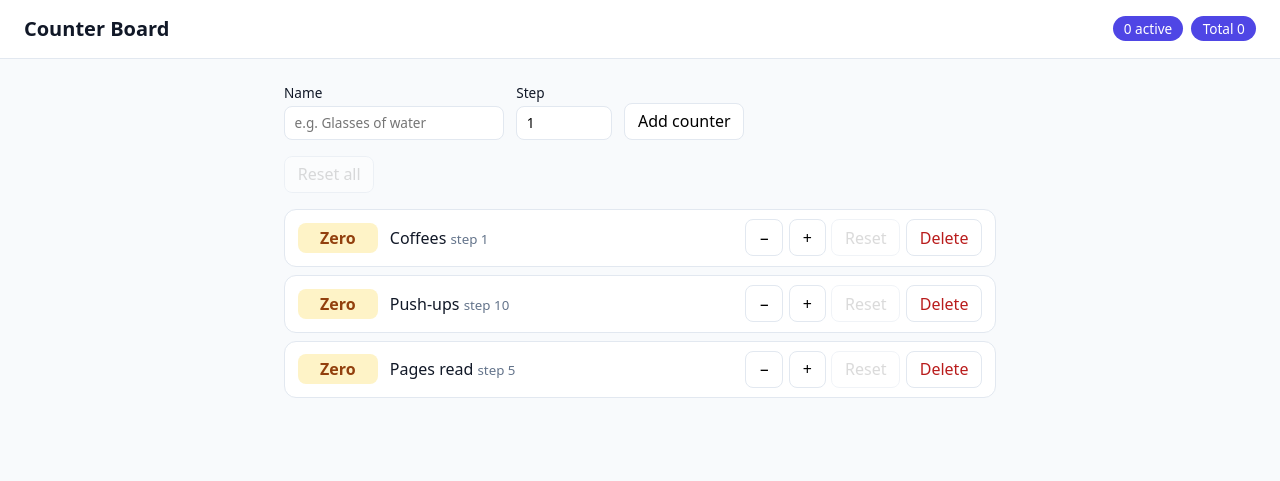
Counter Board › adds a counter with a custom step and rejects bad input
The image size is (1280, 481).
Click the button "Add counter" at (684, 121), box [624, 103, 744, 140]
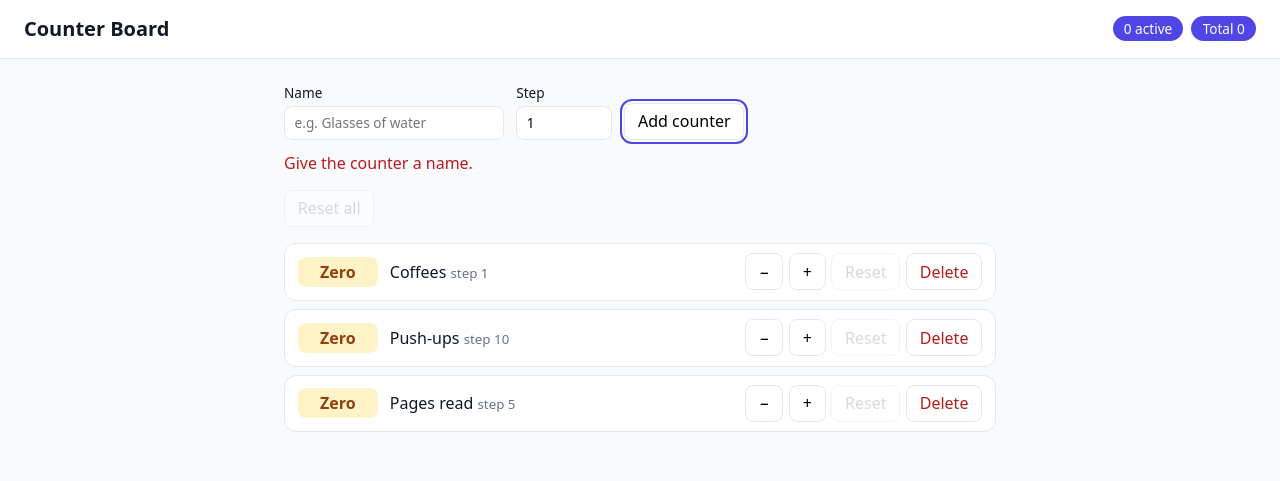
Now the message reads "Give the counter a name.", box [284, 152, 473, 174]
Type "Water" into the field labelled "Name" at (394, 123), box [284, 106, 504, 140]
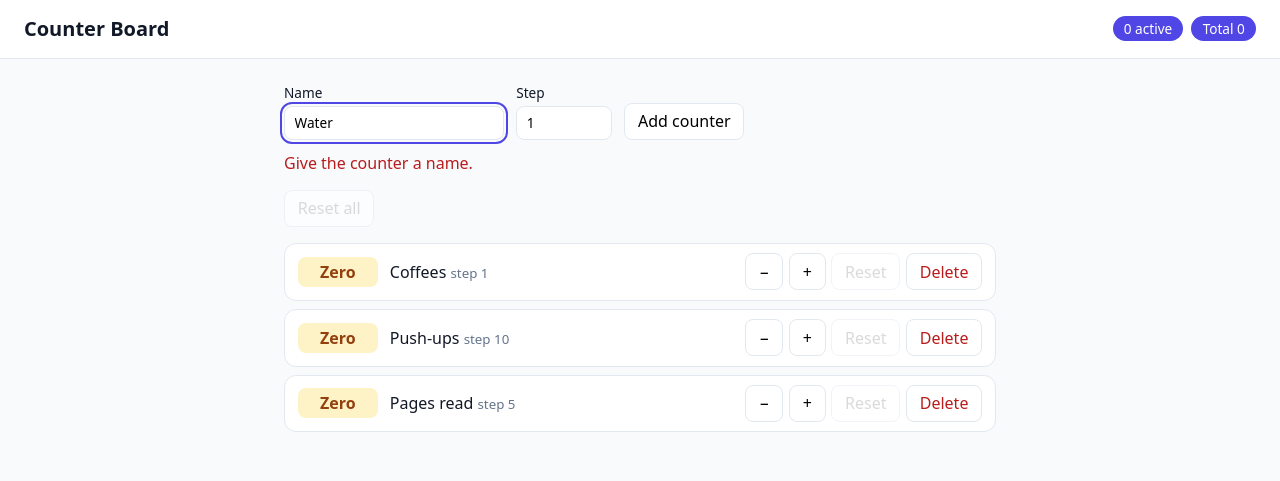
Replace the text in the number field labelled "Step" with "3" at (564, 123), box [516, 106, 612, 140]
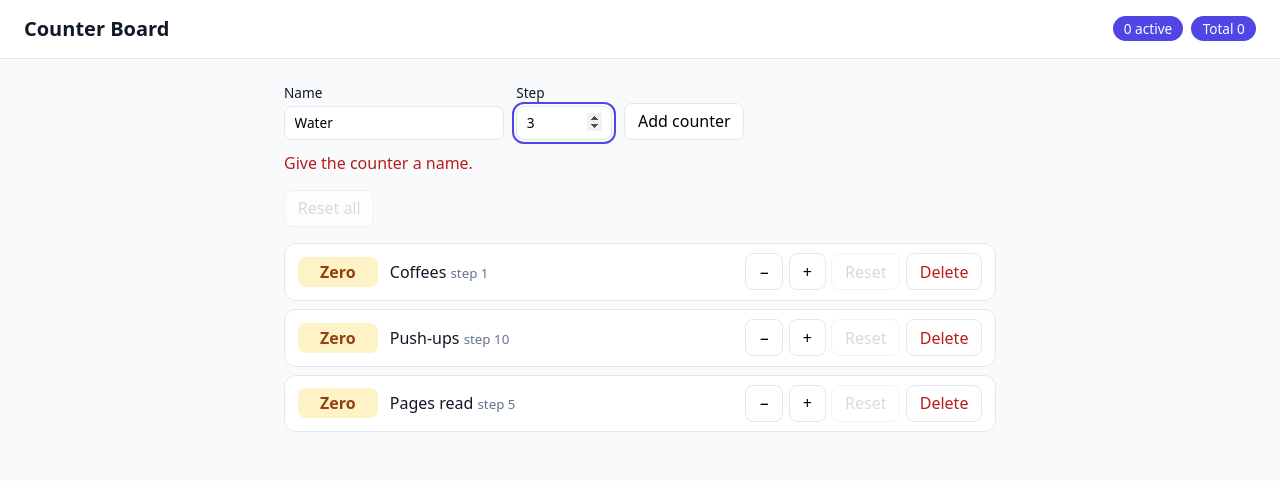
Click the button "Add counter" at (684, 121), box [624, 103, 744, 140]
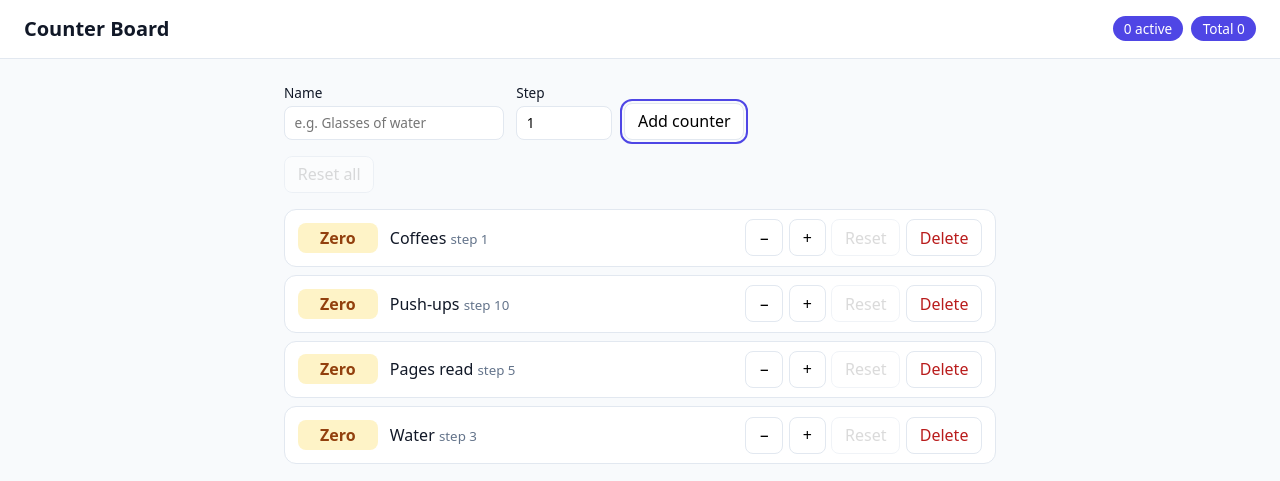
Click the button named "Increase Water by 3" at (807, 436), box [789, 417, 826, 454]
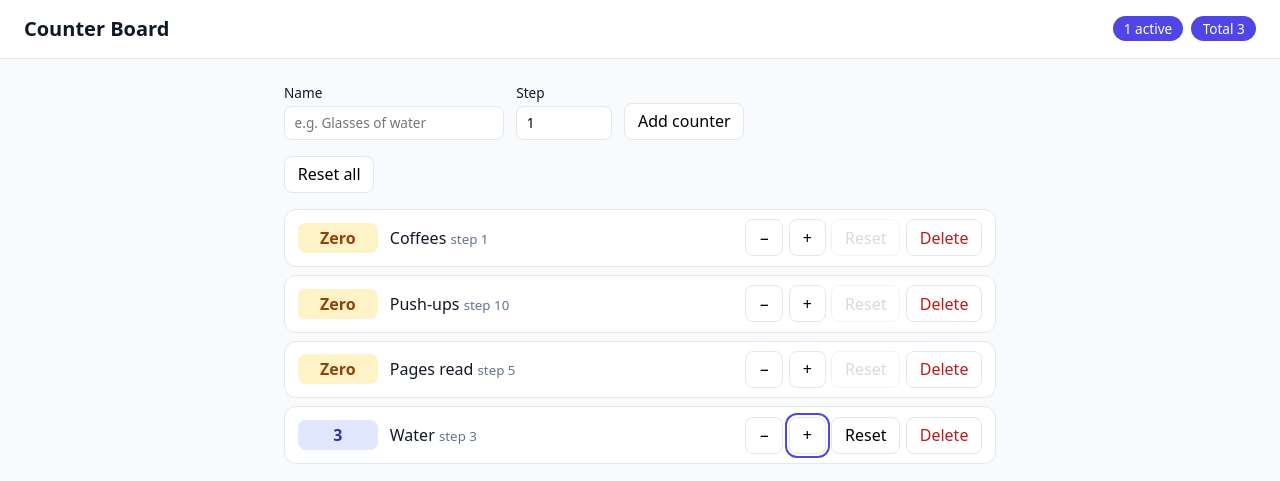
Now the text named "Water: 3" is shown, box [298, 420, 378, 450]
